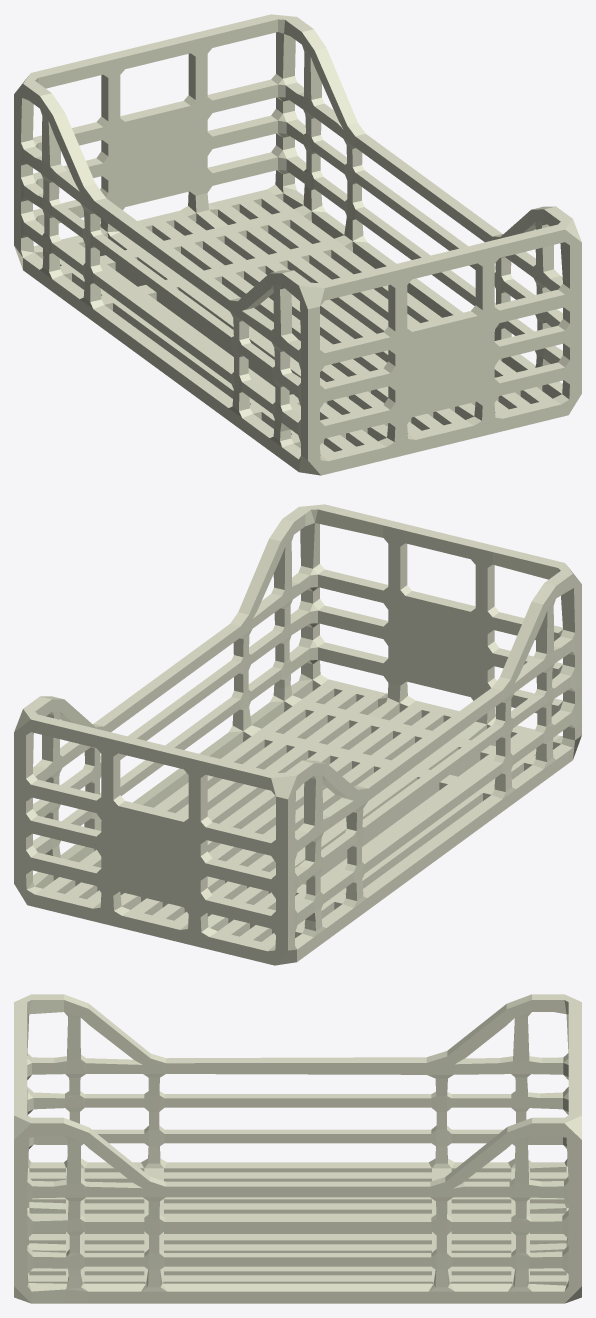
Rendered from Fruitbox.fbx.
The picture shows the model from 3 angles, top to bottom: view 1: azimuth 30°, elevation 25°; view 2: azimuth 150°, elevation 25°; view 3: azimuth 270°, elevation 25°; orthographic projection. The views are drawn at different scales.
Parts seen in each view (by area): view 1: Fruit box; view 2: Fruit box; view 3: Fruit box.
Part boxes in pixels (x1,y1,x2,y2): Fruit box: (14,14,581,475); Fruit box: (14,504,581,965); Fruit box: (14,994,581,1303).
Bounding box in the file's own units: 0.2689 × 0.1749 × 0.4995.
